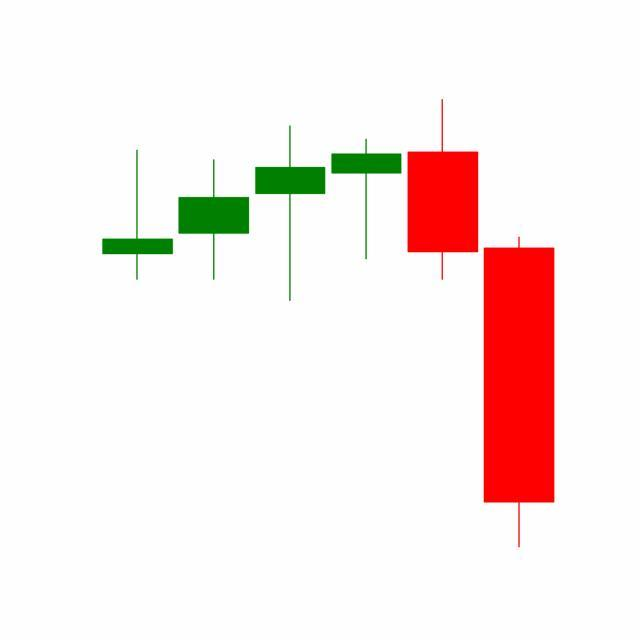Three Line Strike: (175, 100, 482, 306)
